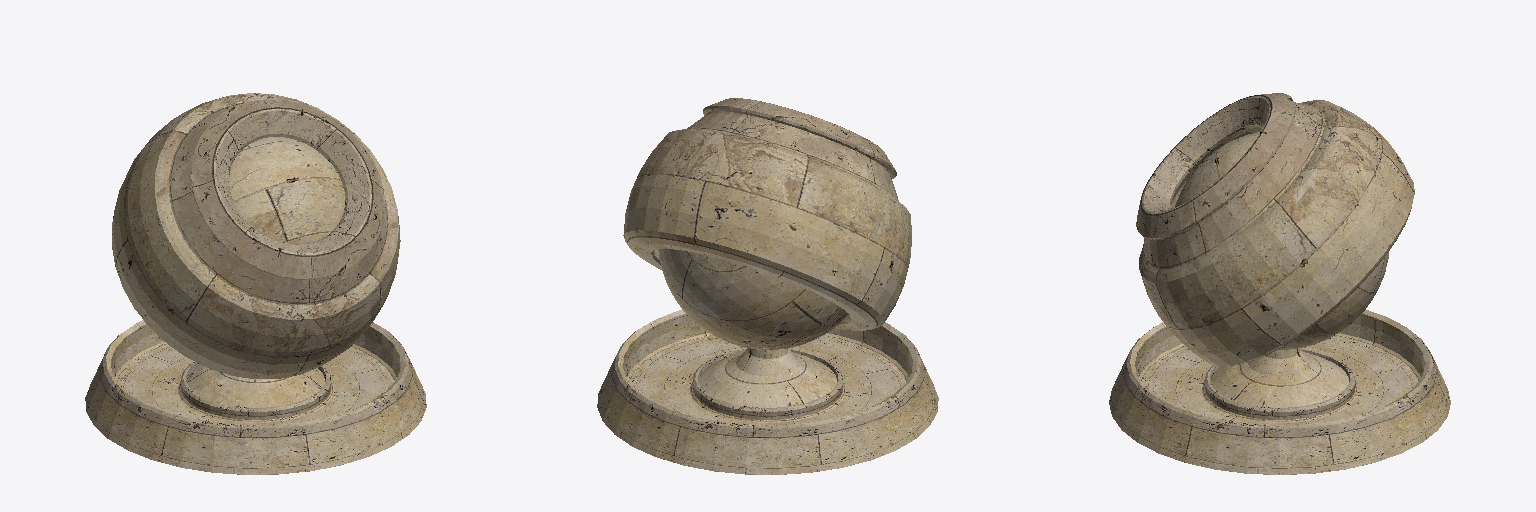
3 renders of one model, left to right at view 1: azimuth 30°, elevation 25°; view 2: azimuth 150°, elevation 25°; view 3: azimuth 270°, elevation 25°, orthographic.
Parts seen in each view (by area): view 1: Sphere_Sphere.002, Circle, Icosphere, Sphere.001_Sphere.003; view 2: Sphere_Sphere.002, Circle, Icosphere, Sphere.001_Sphere.003; view 3: Sphere_Sphere.002, Circle, Sphere.001_Sphere.003, Icosphere.
Boxes of the visible parts, x1,y1,x2,y2 form: Sphere_Sphere.002: [112, 93, 400, 378]; Circle: [85, 320, 426, 474]; Icosphere: [229, 137, 344, 244]; Sphere.001_Sphere.003: [187, 364, 324, 407]; Sphere_Sphere.002: [623, 98, 911, 330]; Circle: [597, 310, 938, 474]; Icosphere: [658, 249, 848, 349]; Sphere.001_Sphere.003: [699, 348, 836, 407]; Sphere_Sphere.002: [1136, 93, 1414, 366]; Circle: [1109, 310, 1450, 474]; Sphere.001_Sphere.003: [1211, 348, 1348, 407]; Icosphere: [1175, 132, 1388, 349].
Size of the model in its own units: 2.37 by 2.28 by 2.37.
Materials: 1 (1 with a texture image).